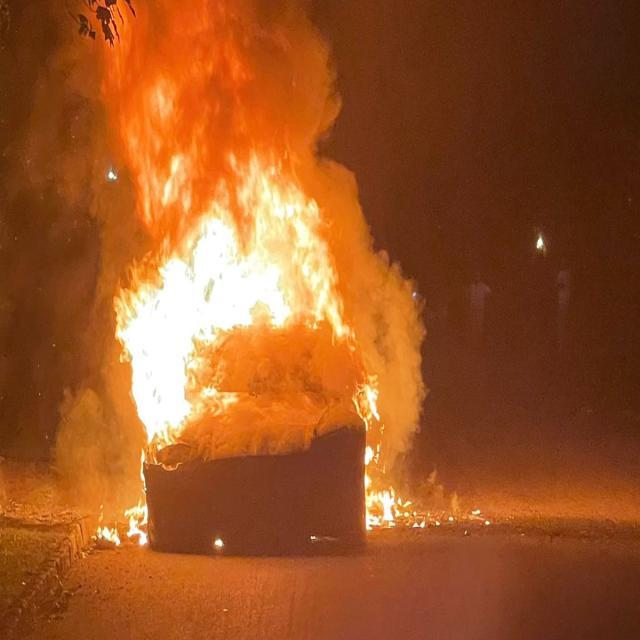Fire: (115, 191, 286, 437), (288, 188, 346, 336), (364, 446, 396, 531), (92, 502, 148, 546), (354, 376, 379, 426)
Smoke: (106, 3, 346, 190), (346, 172, 426, 374), (382, 374, 429, 444)
